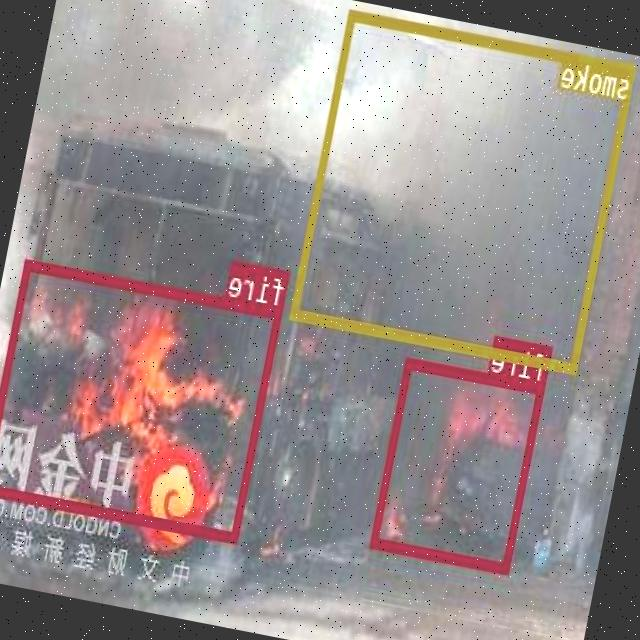fire: (0, 258, 283, 543), (372, 357, 547, 574)
smoke: (292, 9, 637, 372)
